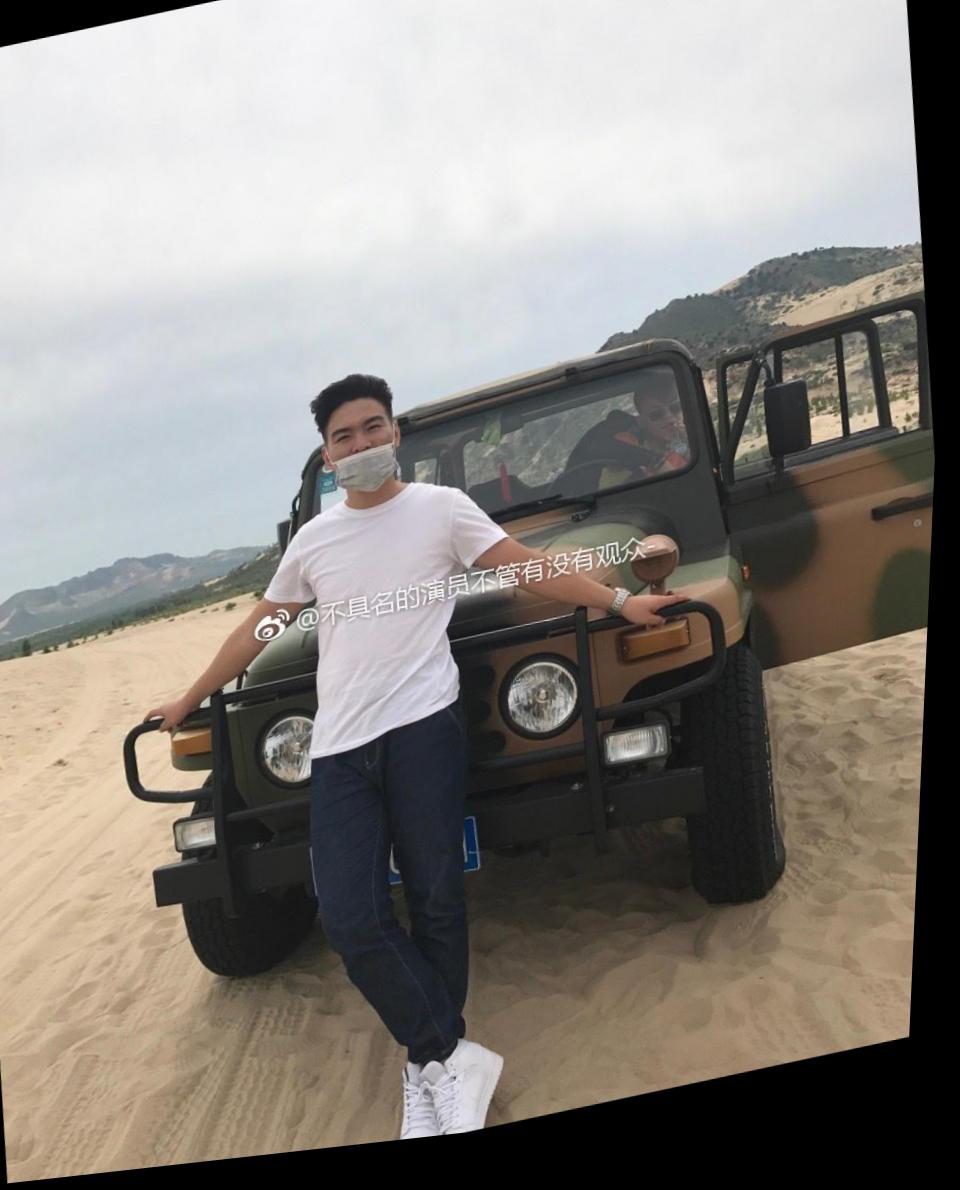NONE: (650, 410, 691, 457)
WRONG: (324, 419, 409, 508)
